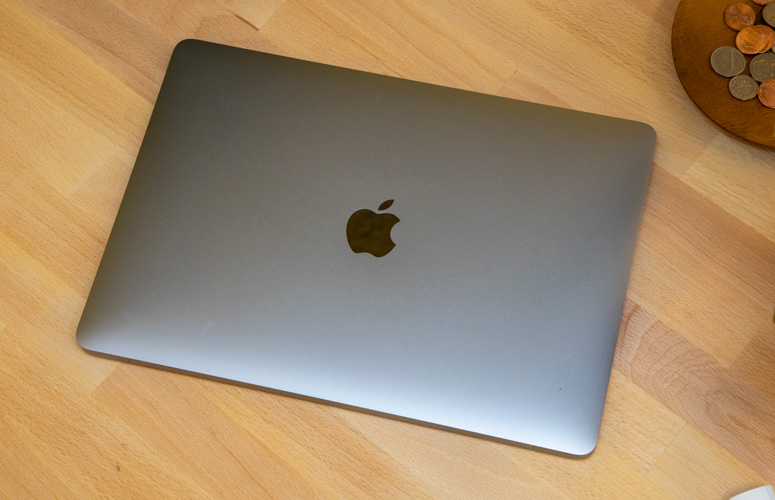apple: (333, 179, 472, 297)
